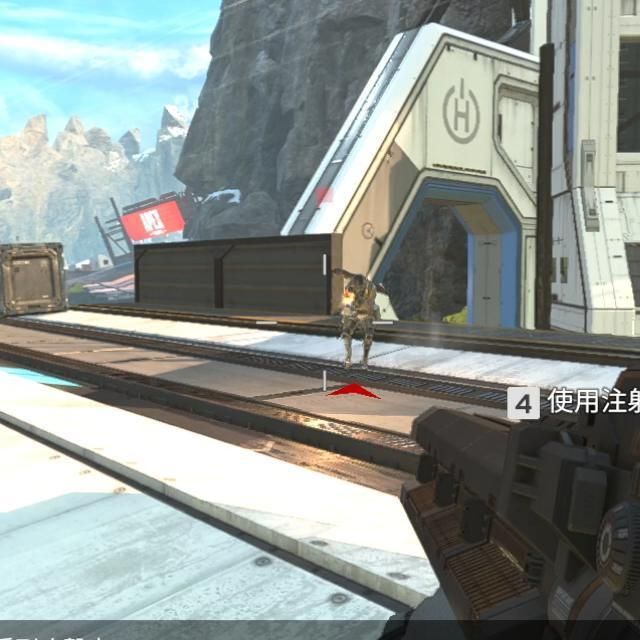avatar: (340, 273, 380, 375)
